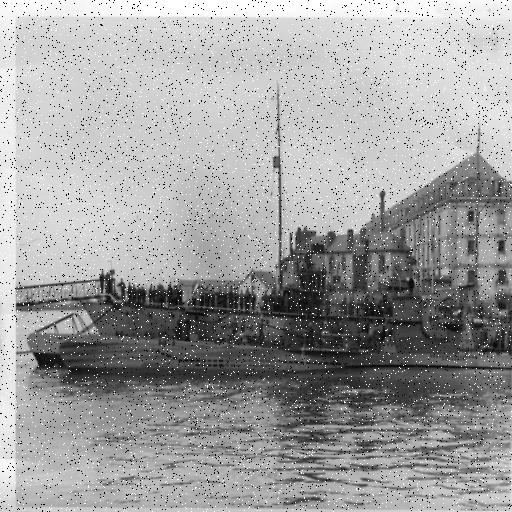submarine: (60, 293, 512, 385)
